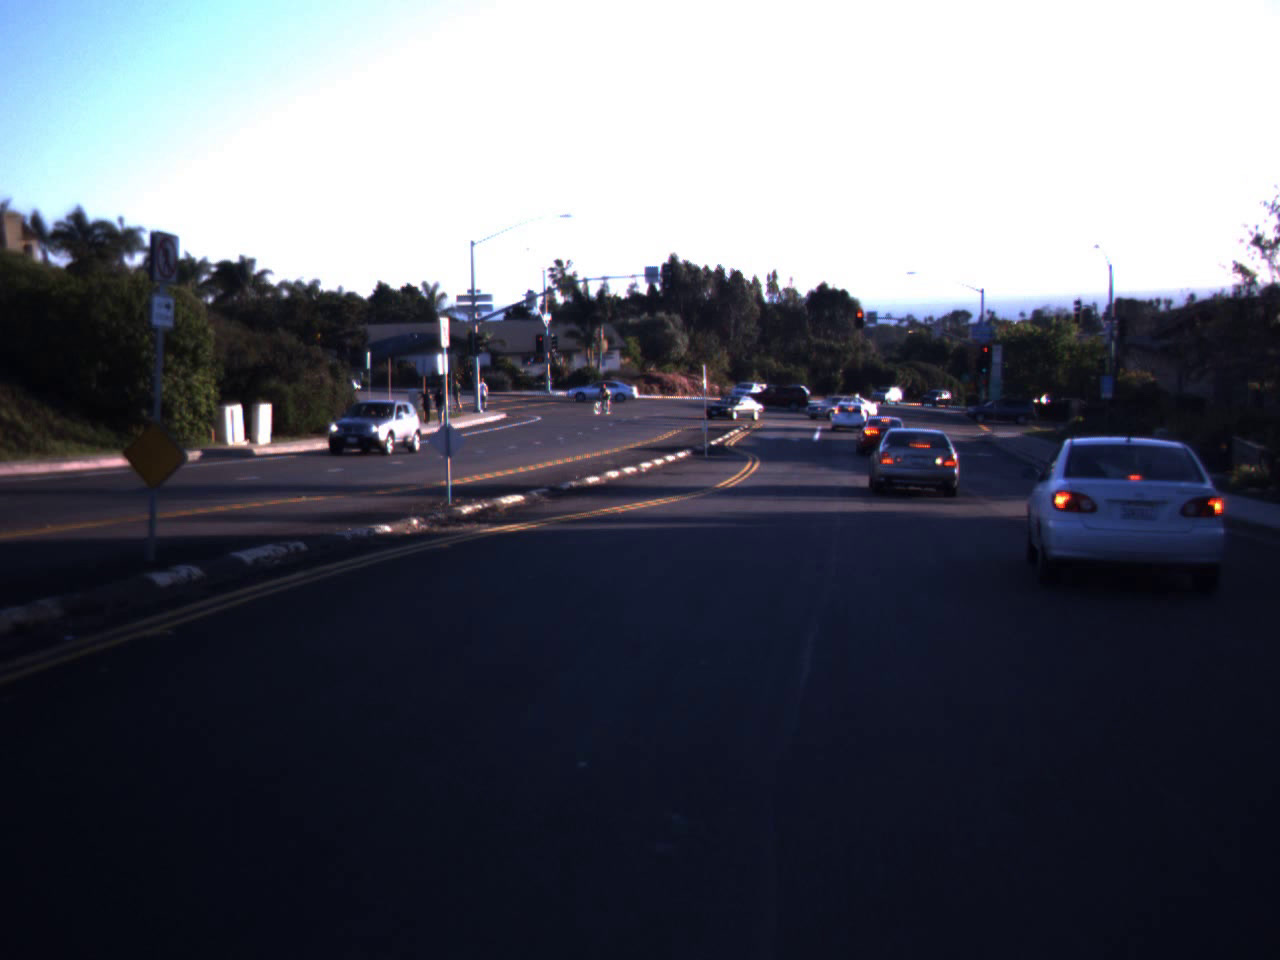stop: (980, 346, 992, 364), (854, 310, 866, 328)
